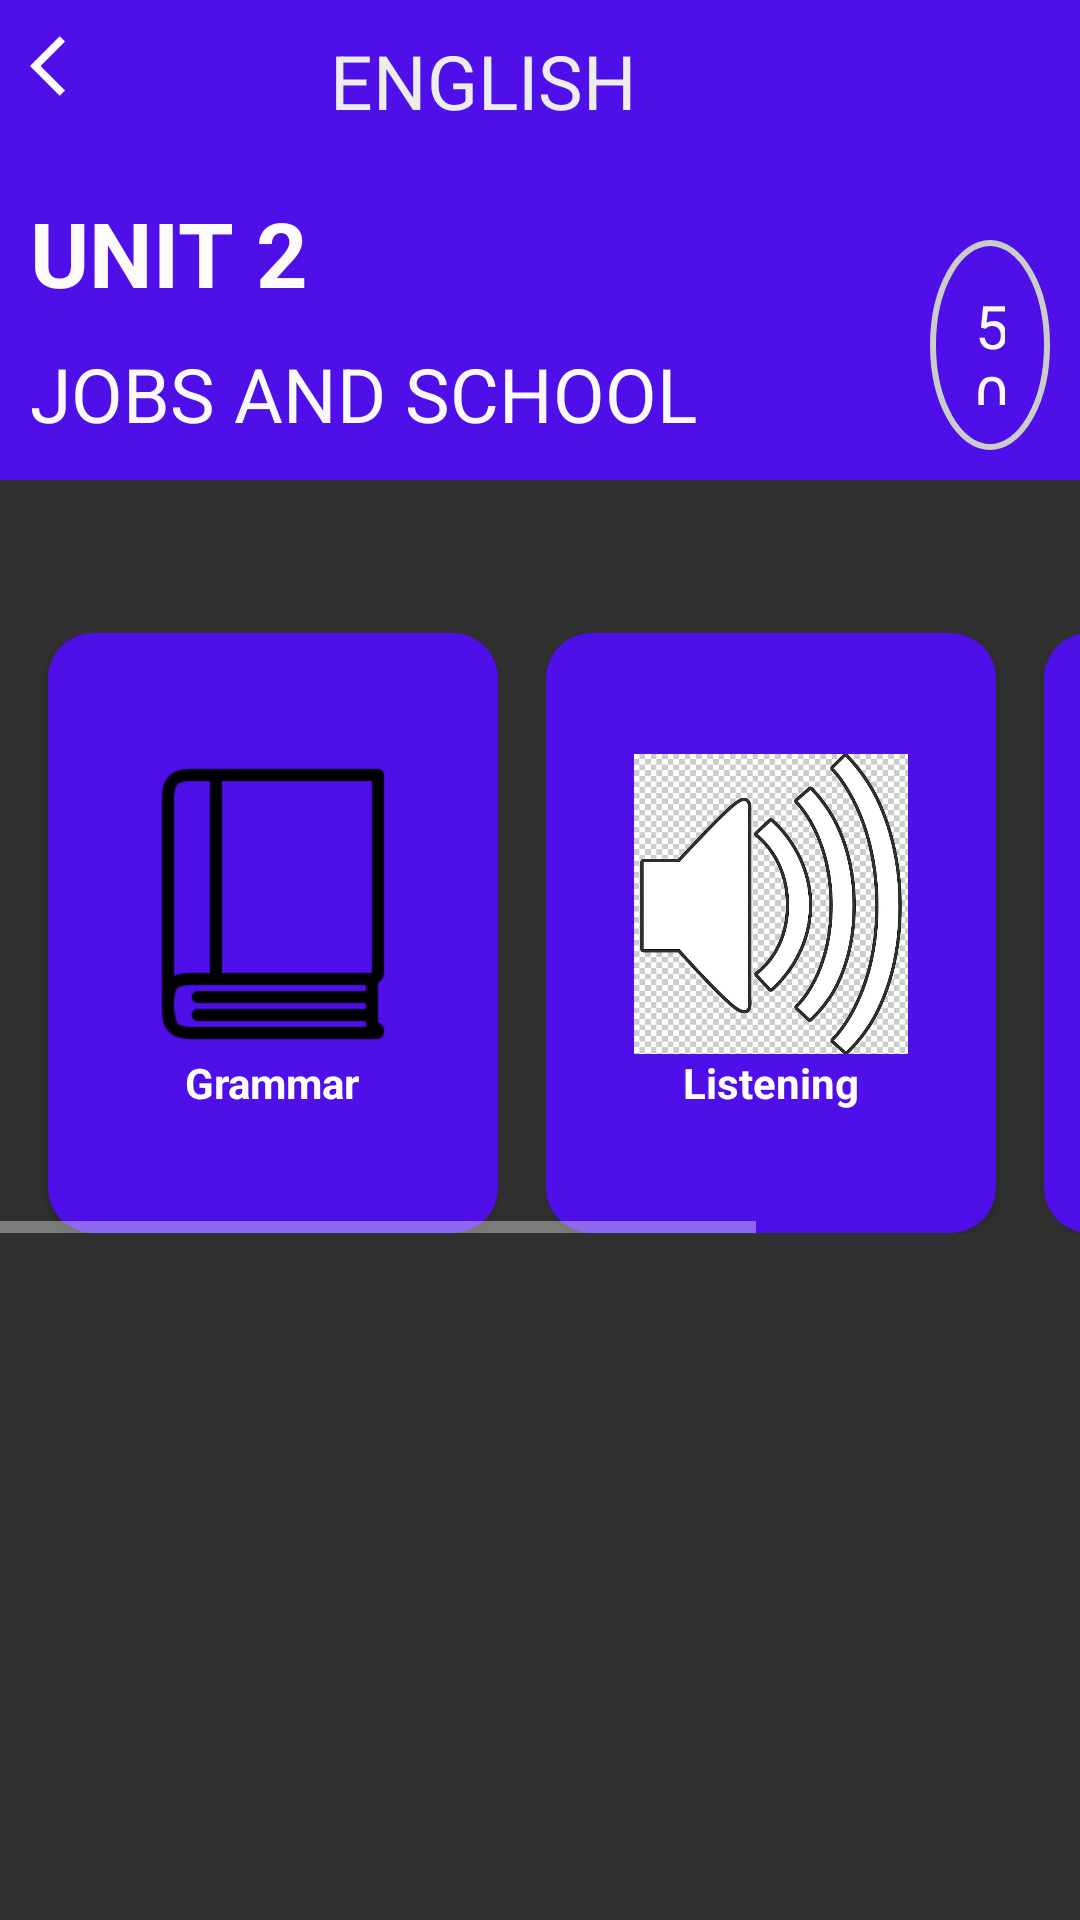

Where icons sit on this 1080w x 1920h app screen, as [x1=x1, y1=y1, x2=x2, y2=y2]:
arrow back: [x1=30, y1=36, x2=65, y2=96]
book: [x1=161, y1=768, x2=385, y2=1040]
